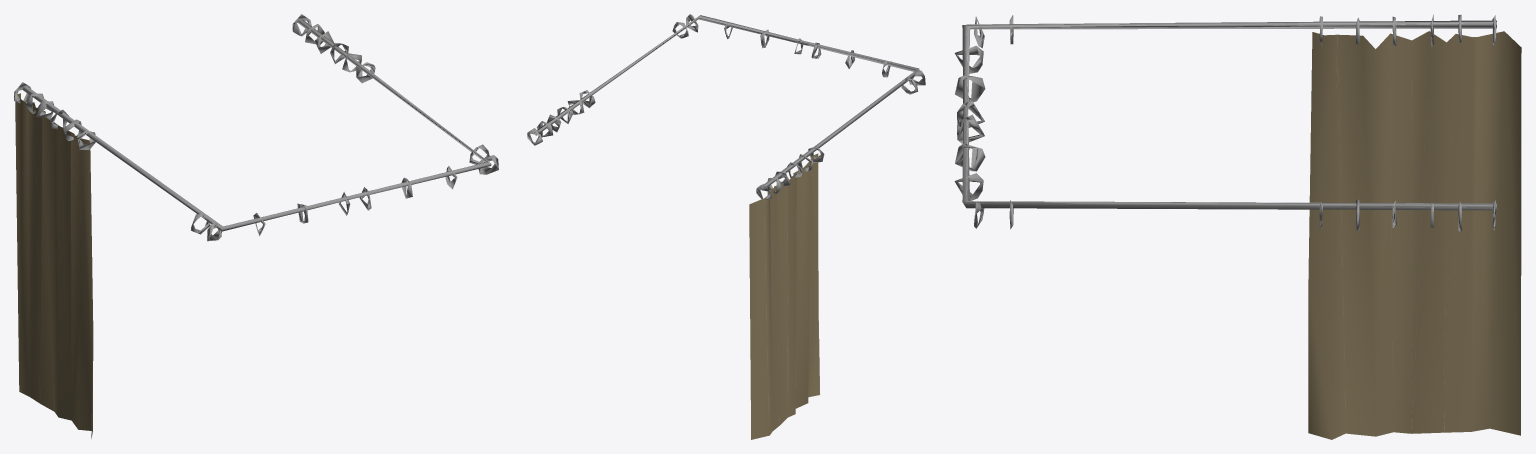
Rendered from separator.fbx.
3 renders of one model, left to right at view 1: azimuth 30°, elevation 25°; view 2: azimuth 150°, elevation 25°; view 3: azimuth 270°, elevation 25°, orthographic. The views are drawn at different scales.
Visible parts, largest first — view 1: Curtain.001, Rail; view 2: Curtain.001, Rail; view 3: Curtain.001, Rail.
Part boxes in pixels (box(x1,y1,x2,y2)): Curtain.001: box(15, 93, 93, 438); Rail: box(14, 14, 498, 241); Curtain.001: box(749, 153, 820, 439); Rail: box(527, 14, 925, 200); Curtain.001: box(1308, 31, 1521, 439); Rail: box(954, 14, 1496, 231).
Bounding box in the file's own units: 536 × 526 × 646.
2 materials, 2 textured.
